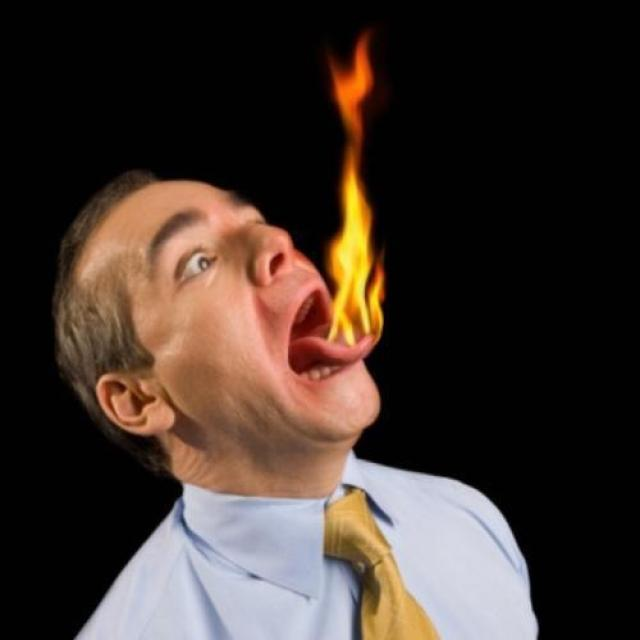Fire: (320, 31, 387, 349)
